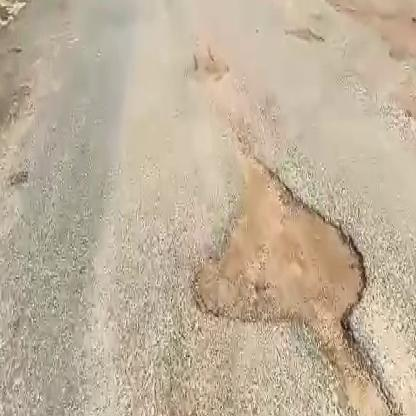pothole: (188, 163, 375, 338), (378, 88, 416, 235)
